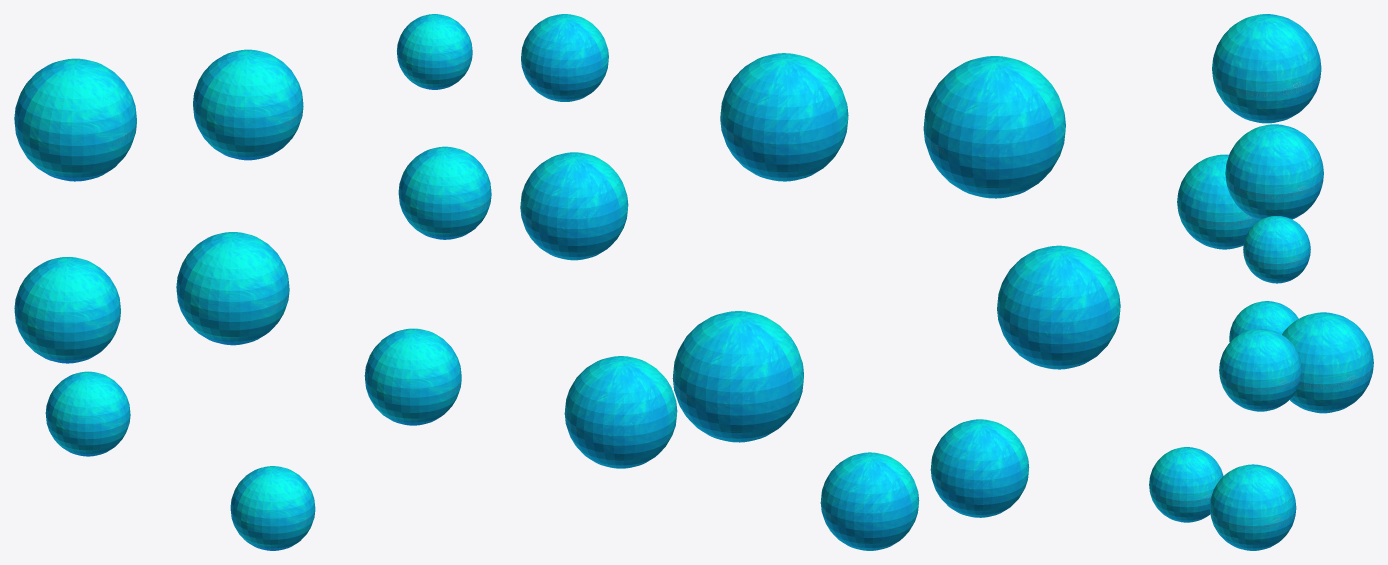
File: fire2.obj
The picture shows the model from 3 angles, left to right: view 1: azimuth 30°, elevation 25°; view 2: azimuth 150°, elevation 25°; view 3: azimuth 270°, elevation 25°; orthographic projection. The views are drawn at different scales.
Parts seen in each view (by area): view 1: Sphere.025, Sphere.018, Sphere.024, Sphere.022, Sphere.020, Sphere.023, Sphere.019, Sphere.017, Sphere.021; view 2: Sphere.025, Sphere.018, Sphere.024, Sphere.022, Sphere.020, Sphere.023, Sphere.019, Sphere.017, Sphere.021; view 3: Sphere.025, Sphere.024, Sphere.018, Sphere.020, Sphere.023, Sphere.022, Sphere.017, Sphere.021, Sphere.019.
Boxes of the visible parts, x1,y1,x2,y2 form: Sphere.025: (14,58,136,181); Sphere.018: (176,232,289,345); Sphere.024: (193,49,303,160); Sphere.022: (14,257,120,363); Sphere.020: (364,328,461,425); Sphere.023: (398,146,491,239); Sphere.019: (45,371,130,456); Sphere.017: (230,466,315,550); Sphere.021: (397,14,472,89); Sphere.025: (923,56,1065,198); Sphere.018: (672,311,803,442); Sphere.024: (720,53,848,181); Sphere.022: (997,245,1120,369); Sphere.020: (564,356,677,468); Sphere.023: (520,152,628,260); Sphere.019: (930,419,1029,517); Sphere.017: (820,452,919,550); Sphere.021: (521,14,608,101); Sphere.025: (1212,14,1321,123); Sphere.024: (1225,124,1323,220); Sphere.018: (1282,312,1373,413); Sphere.020: (1209,464,1296,550); Sphere.023: (1219,328,1301,411); Sphere.022: (1177,154,1259,249); Sphere.017: (1149,447,1223,522); Sphere.021: (1243,216,1310,283); Sphere.019: (1229,301,1298,342).
Bounding box in the file's own units: 1.7 × 1.63 × 0.7669.
Materials: 1 (1 with a texture image).
